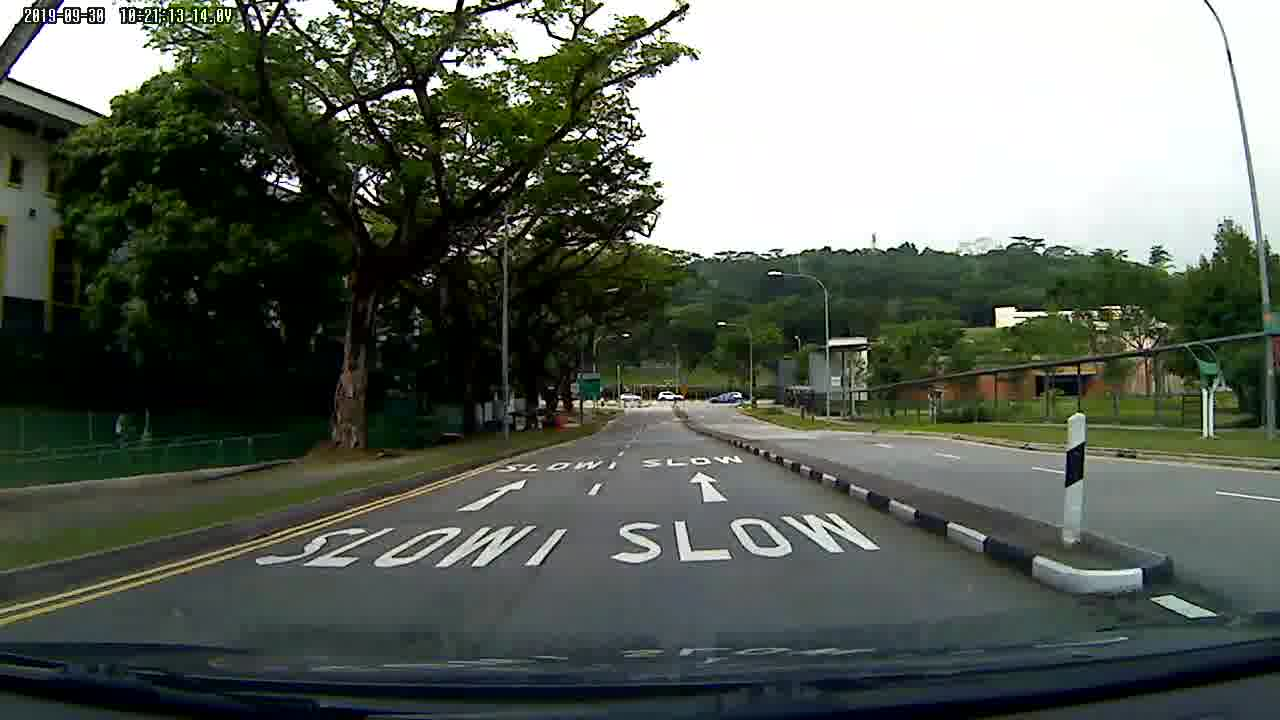car: (708, 391, 747, 405), (659, 390, 687, 401), (620, 390, 643, 401)
